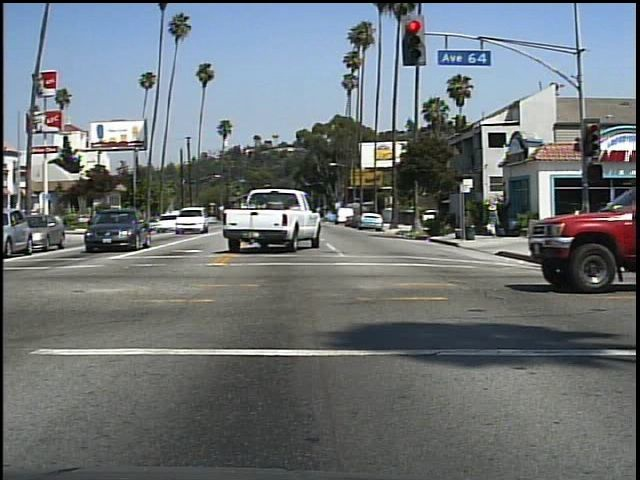person: (482, 199, 508, 240)
